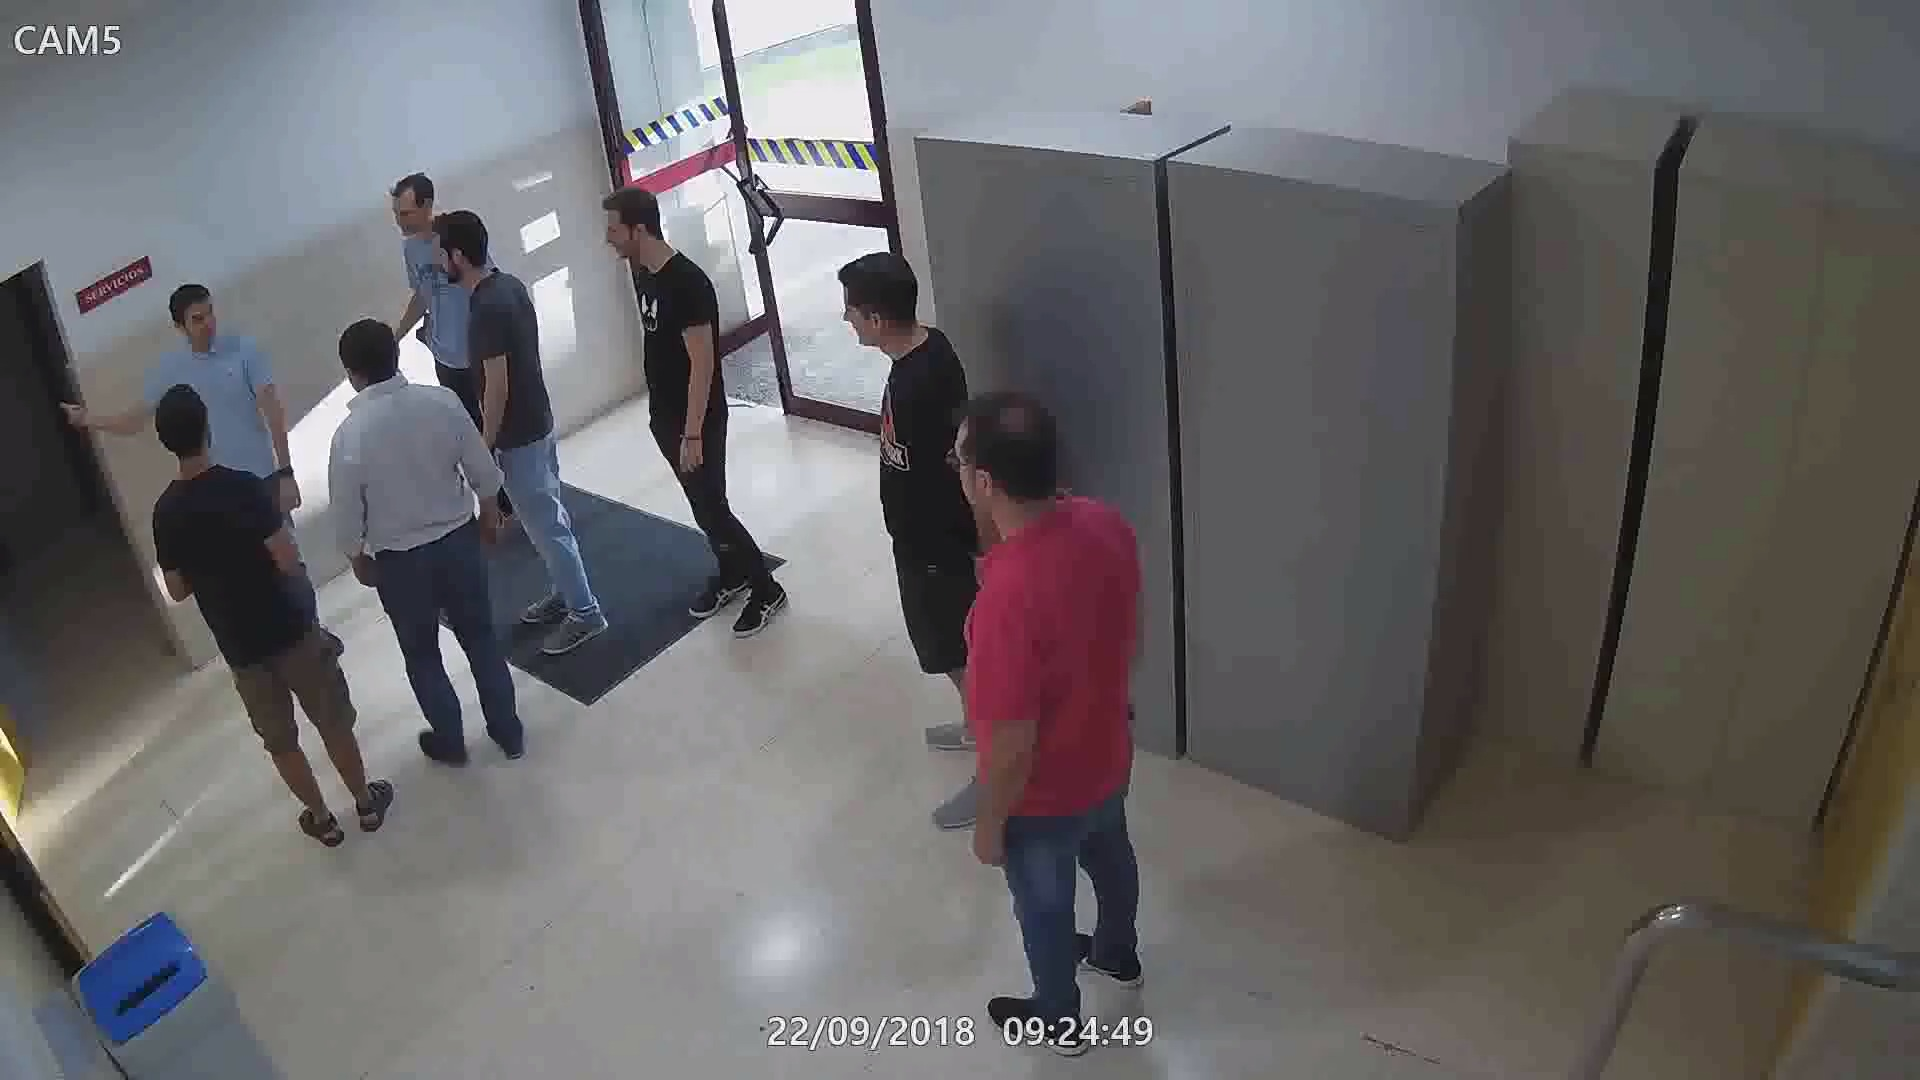Handgun: (413, 307, 434, 345)
